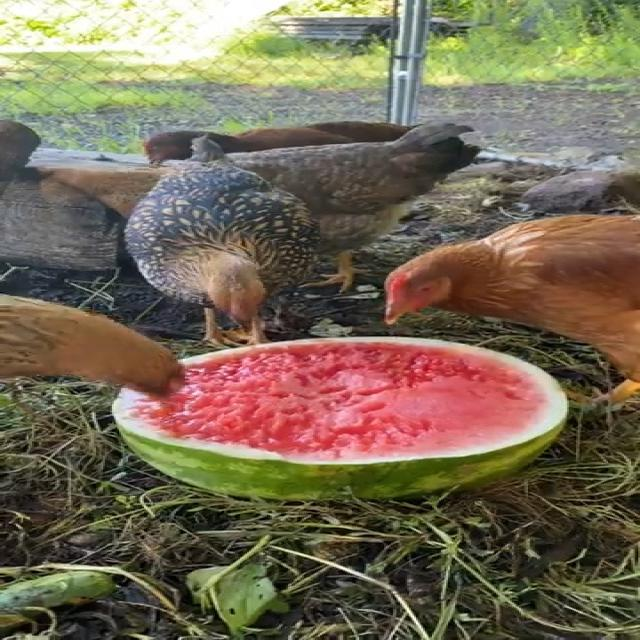feeding: (74, 140, 356, 346), (377, 208, 640, 378), (0, 296, 142, 378)
